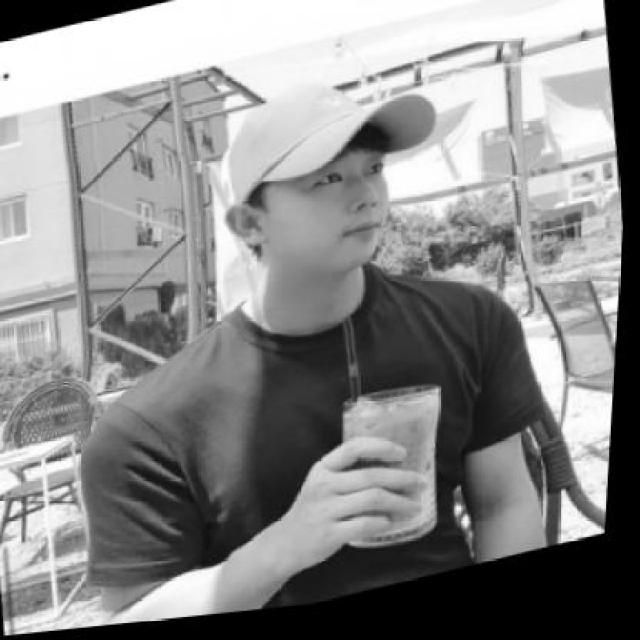hat: (198, 57, 448, 212)
